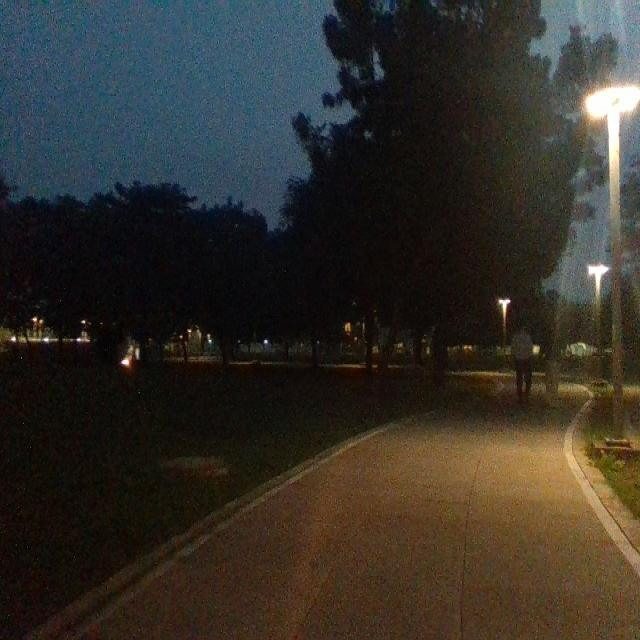lane: (74, 384, 636, 639)
